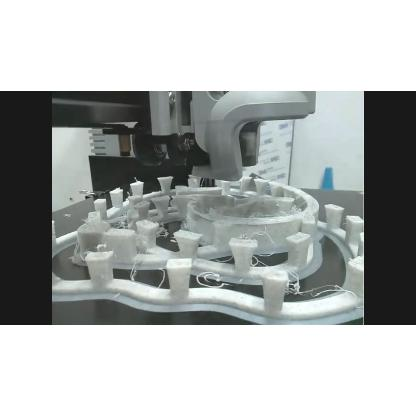fail: (288, 277, 346, 301), (196, 270, 235, 288), (113, 216, 133, 230), (156, 221, 172, 238)
